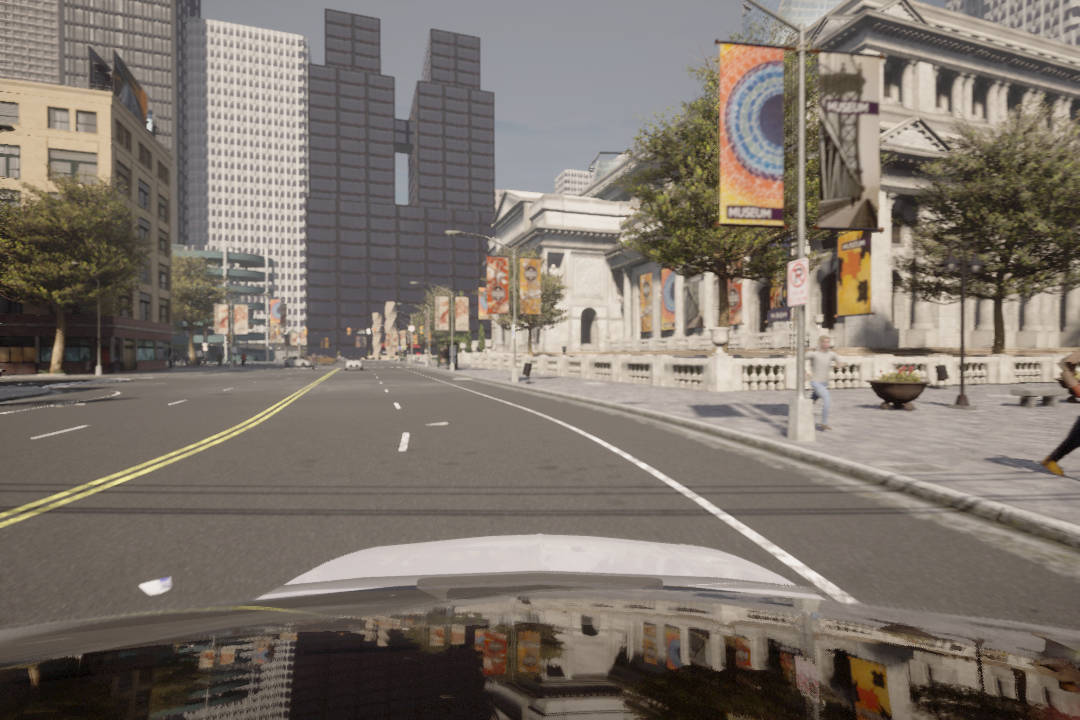TrafficSign_nstop: (785, 258, 811, 306)
